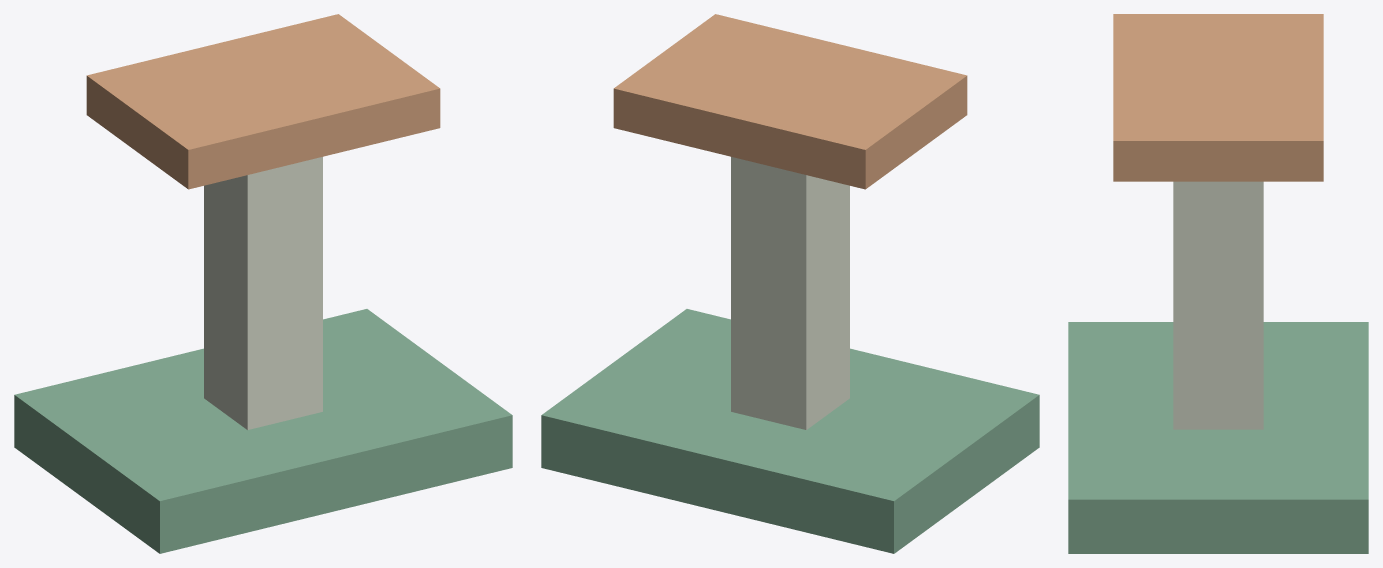
The model's file is dashboard-demo.glb.
3 renders of one model, left to right at view 1: azimuth 30°, elevation 25°; view 2: azimuth 150°, elevation 25°; view 3: azimuth 270°, elevation 25°, orthographic. The views are drawn at different scales.
Visible parts, largest first — view 1: Foundation, Display cap, Column; view 2: Foundation, Display cap, Column; view 3: Foundation, Display cap, Column.
Boxes of the visible parts, <box> form: Foundation: <box>14,309,512,553</box>; Display cap: <box>86,14,440,189</box>; Column: <box>204,157,322,429</box>; Foundation: <box>541,309,1039,553</box>; Display cap: <box>613,14,967,189</box>; Column: <box>731,157,849,429</box>; Foundation: <box>1068,322,1368,553</box>; Display cap: <box>1113,14,1323,181</box>; Column: <box>1173,181,1263,429</box>.
Bounding box in the file's own units: 2.8 × 2.85 × 2.
